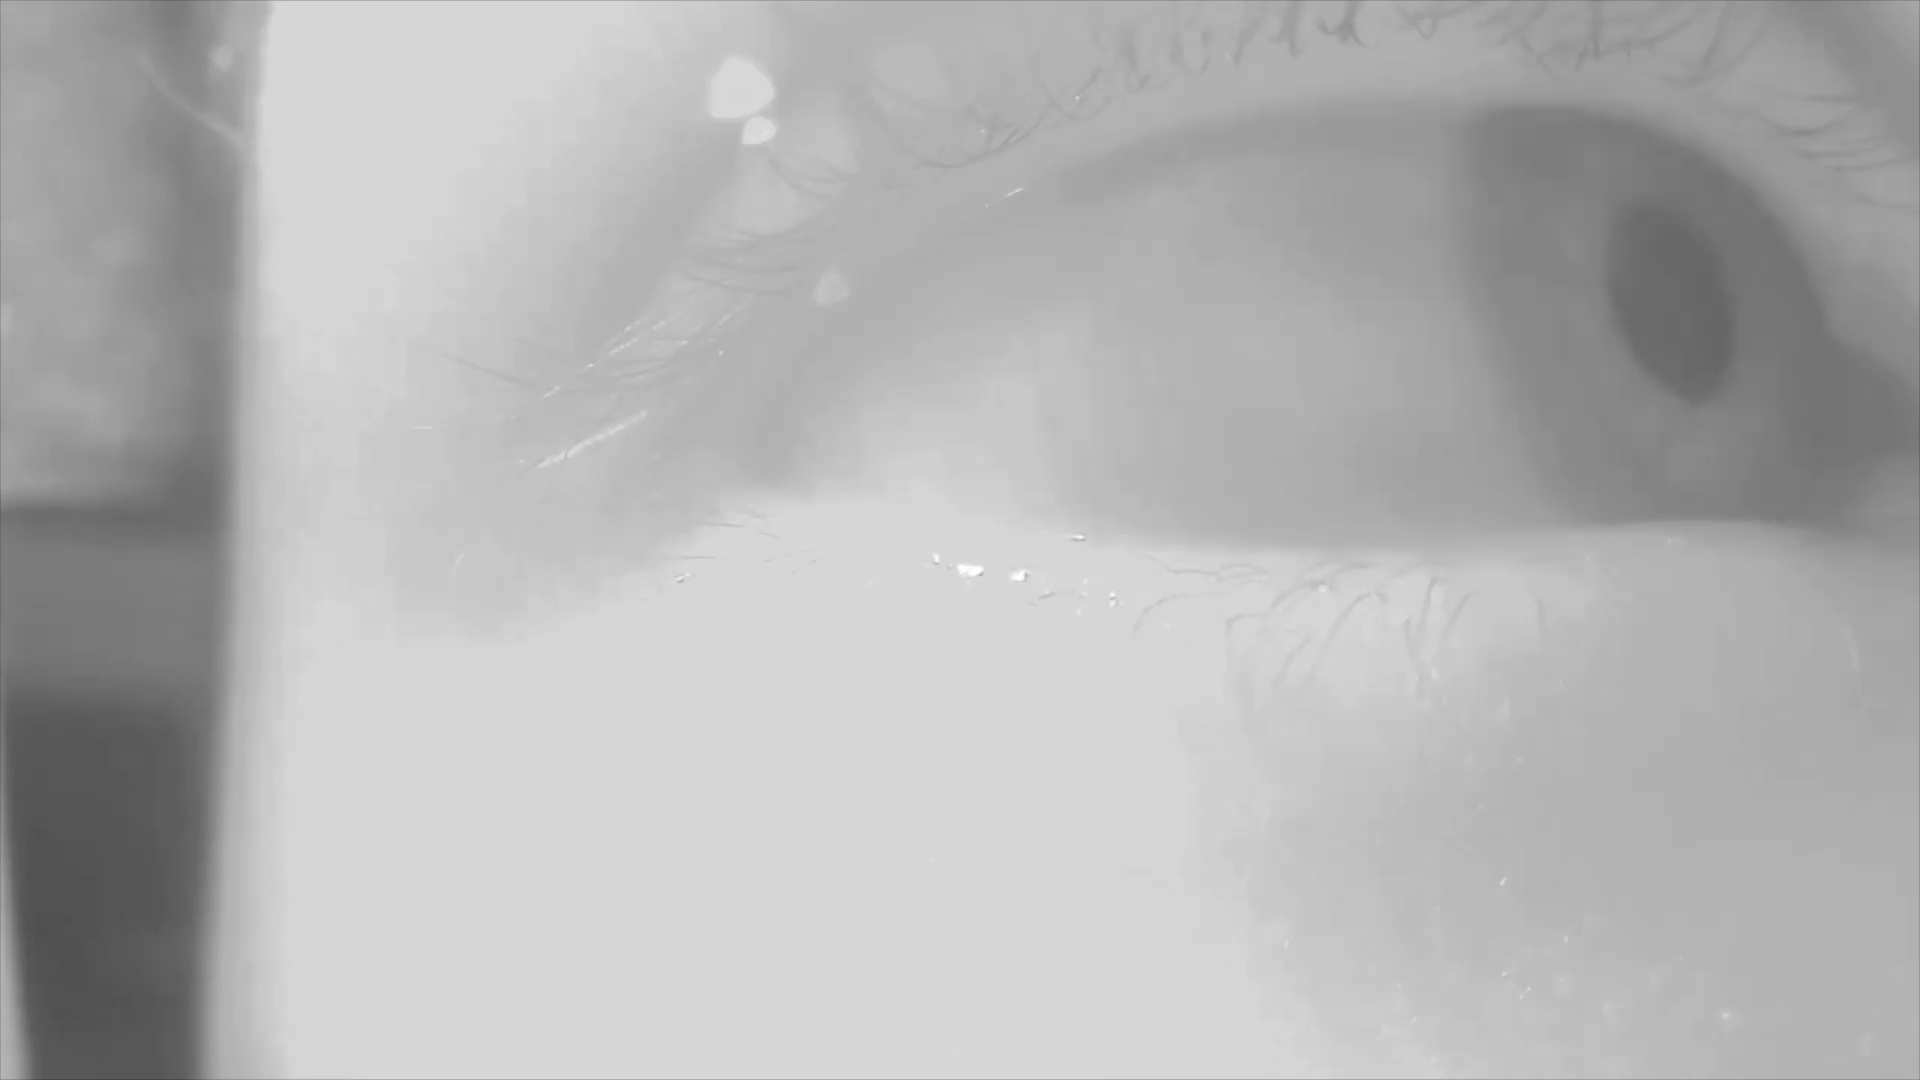pupil: (1614, 201, 1741, 408)
